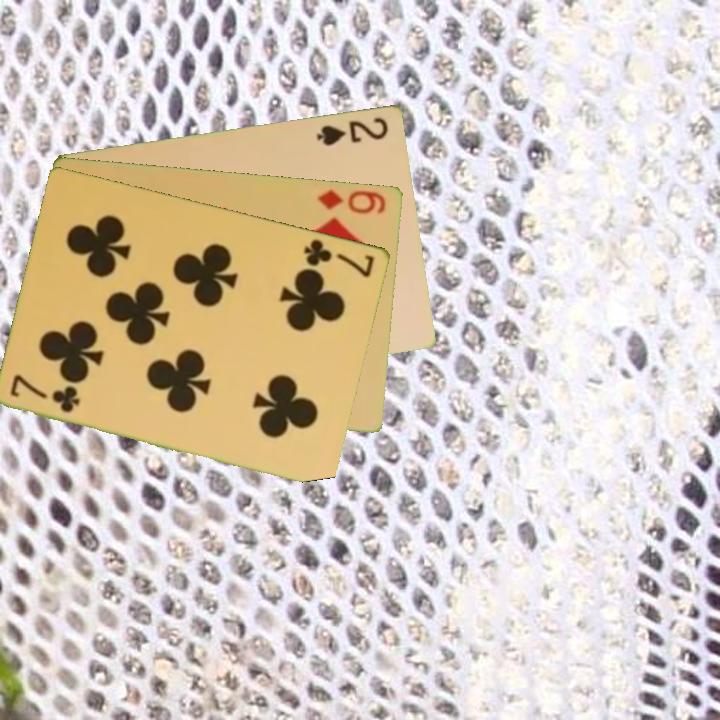2s: (313, 113, 392, 148)
6d: (314, 185, 389, 216)
7c: (301, 235, 378, 280), (7, 371, 83, 416)
